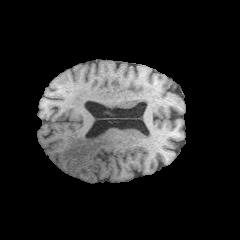glioma: (62, 134, 117, 179)
